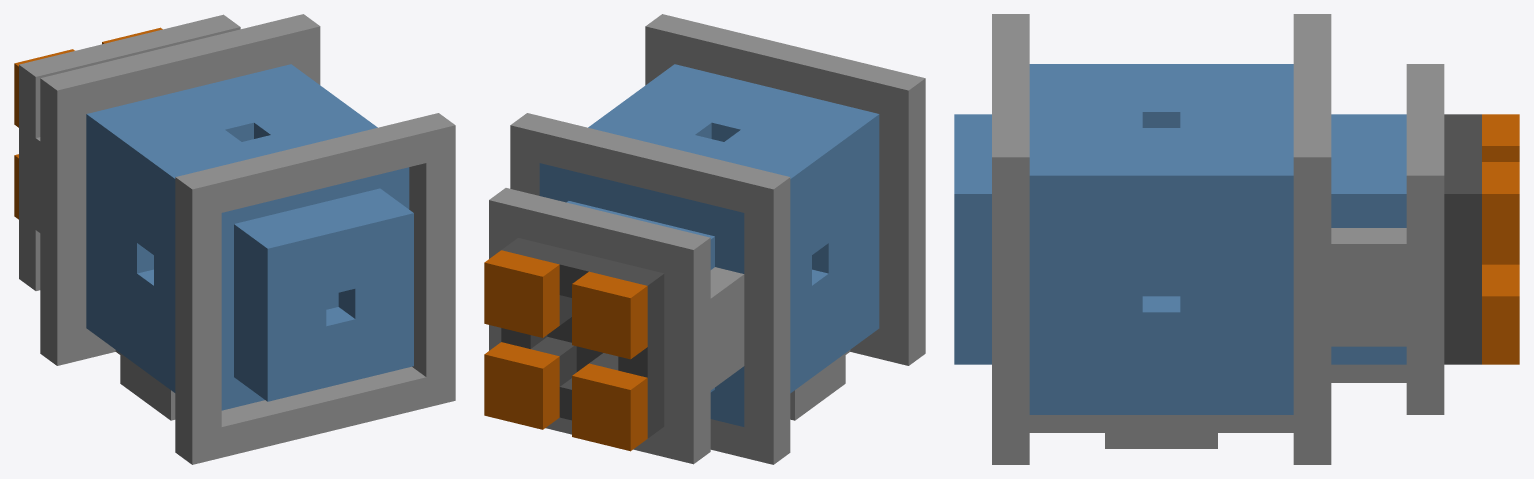
File: WeaponBody#1.obj
The picture shows the model from 3 angles, left to right: view 1: azimuth 30°, elevation 25°; view 2: azimuth 150°, elevation 25°; view 3: azimuth 270°, elevation 25°; orthographic projection. The views are drawn at different scales.
Bounding box in the file's own units: 0.9 × 0.9 × 1.5.
Materials: 1 (1 with a texture image).
